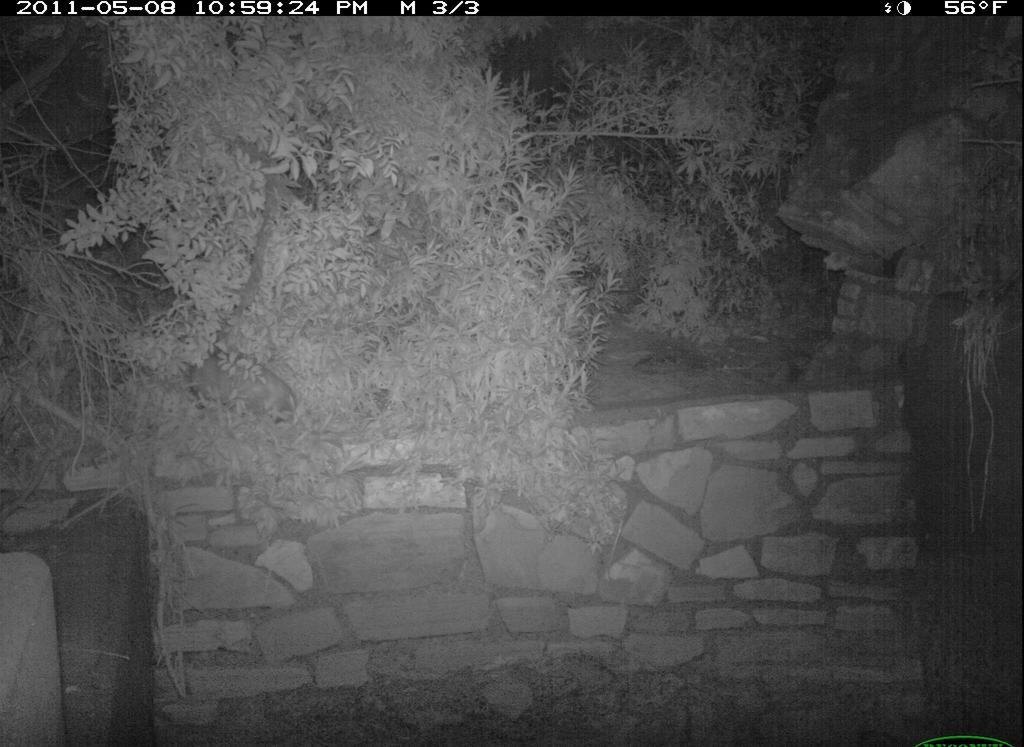opossum: (175, 331, 317, 437)
